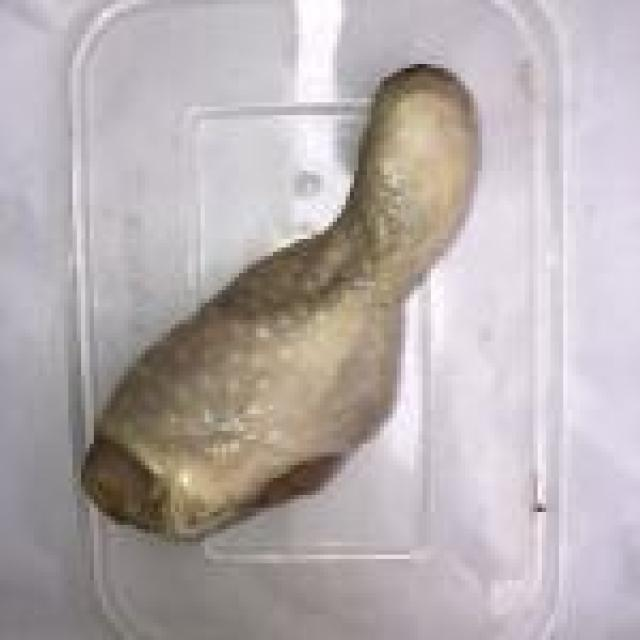leg: (106, 65, 478, 545)
